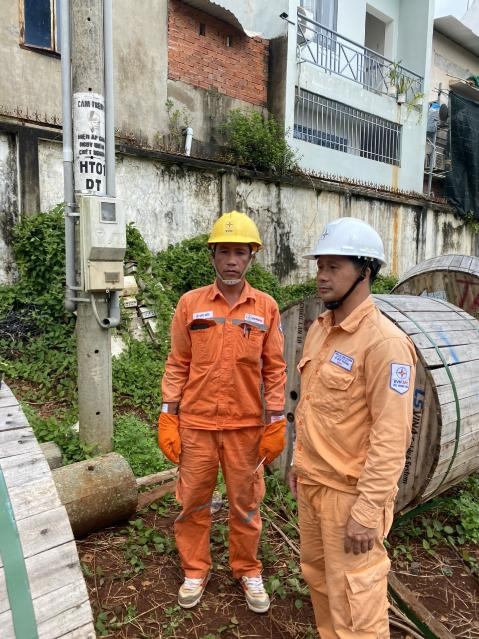gloves: (154, 400, 196, 466), (256, 406, 293, 473)
helmet: (303, 212, 392, 268), (203, 209, 271, 252)
shoes: (228, 554, 283, 626), (161, 550, 220, 613)
